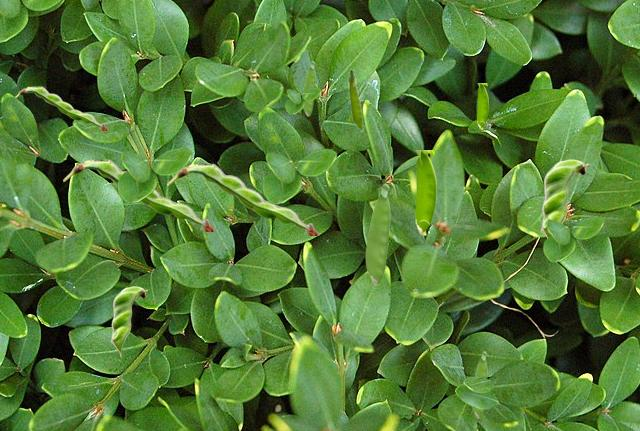pea: (167, 163, 318, 234), (63, 159, 214, 230), (15, 86, 107, 129), (540, 159, 588, 238), (110, 286, 147, 357), (365, 183, 389, 284), (415, 150, 435, 234), (471, 351, 486, 417), (348, 69, 362, 131), (302, 61, 314, 115), (477, 83, 487, 128)
